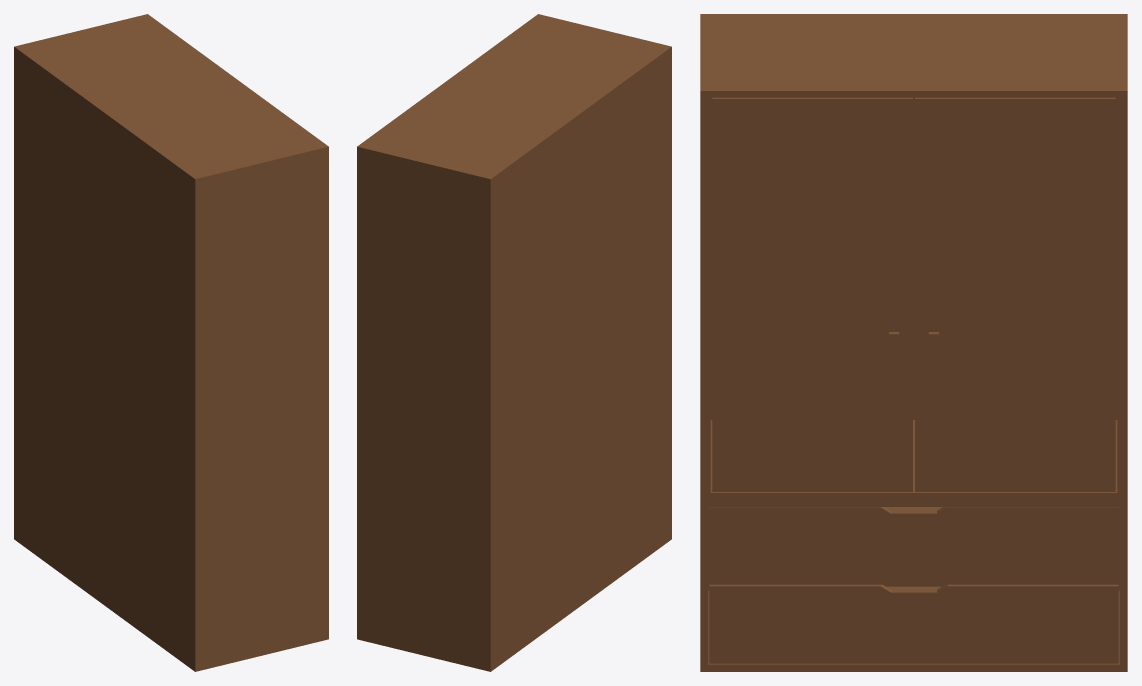
The model's file is Closet.fbx.
3 views of the same model, side by side, from view 1: azimuth 30°, elevation 25°; view 2: azimuth 150°, elevation 25°; view 3: azimuth 270°, elevation 25° (orthographic). The views are drawn at different scales.
Visible parts, largest first — view 1: Closet; view 2: Closet; view 3: Closet.
Boxes of the visible parts, box(x1,y1,x2,y2) form: Closet: box(14, 14, 328, 671); Closet: box(357, 14, 671, 671); Closet: box(700, 14, 1127, 671).
Size of the model in its own units: 400 by 170 by 600.
